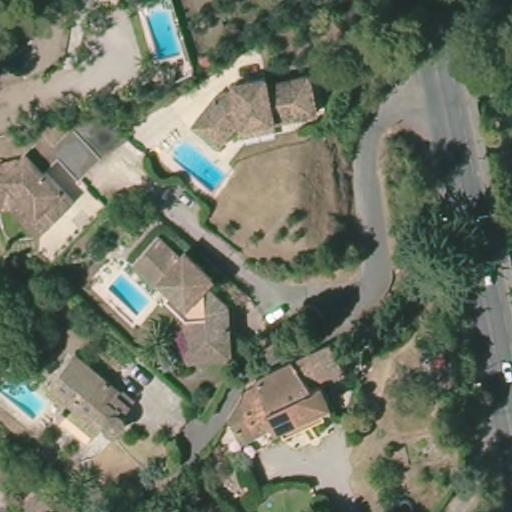pool: (173, 139, 224, 193), (105, 267, 153, 321), (143, 4, 185, 59), (0, 368, 44, 420)
